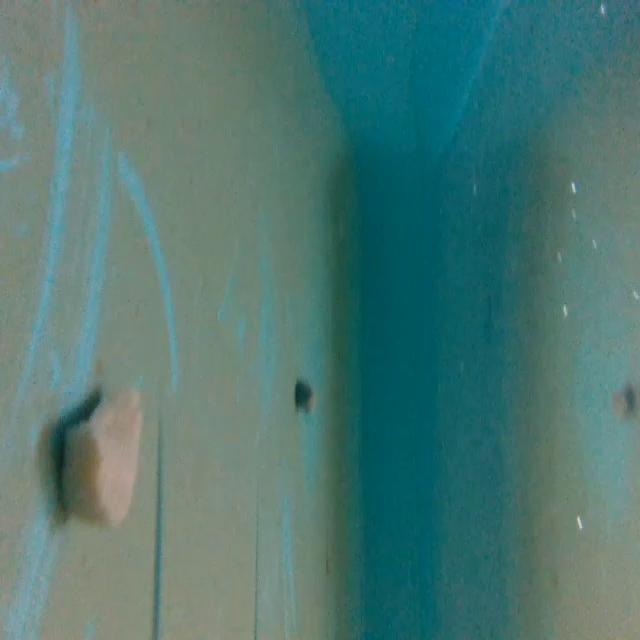rock: (58, 386, 148, 526), (289, 376, 318, 416)
